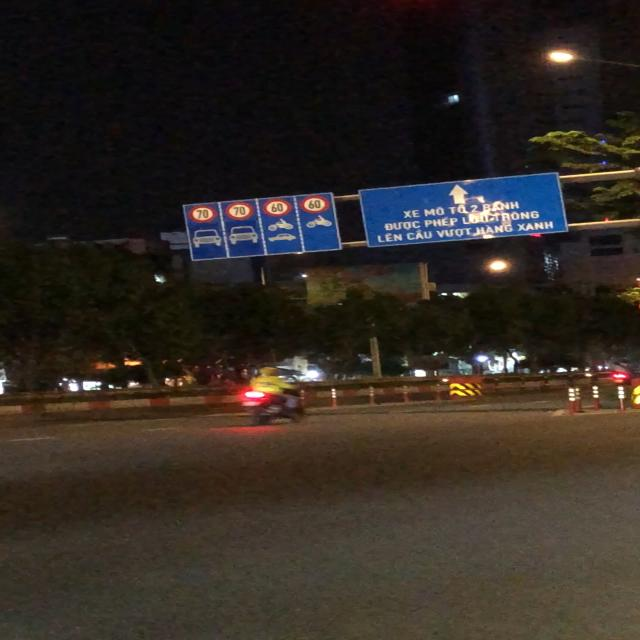Bien bao toc do toi da cho phep: (188, 203, 220, 224), (260, 198, 292, 218), (298, 195, 330, 214), (224, 201, 252, 221)
